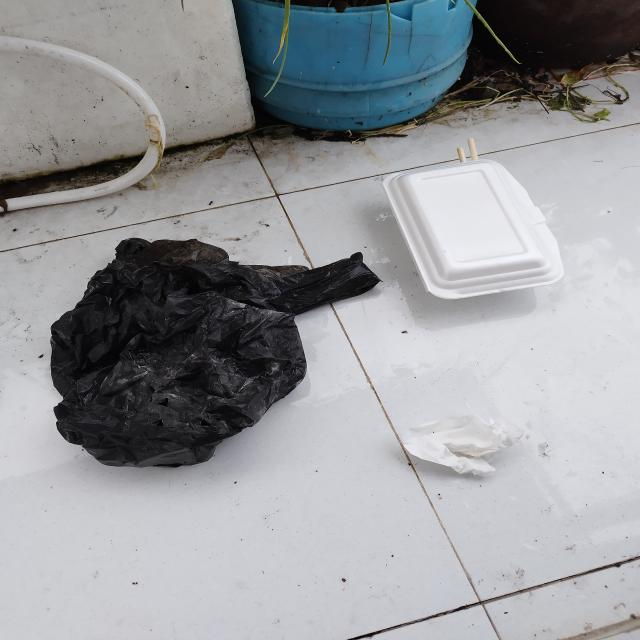bag: (46, 234, 382, 472)
foam box: (382, 158, 566, 302)
napkin: (399, 413, 527, 478)
